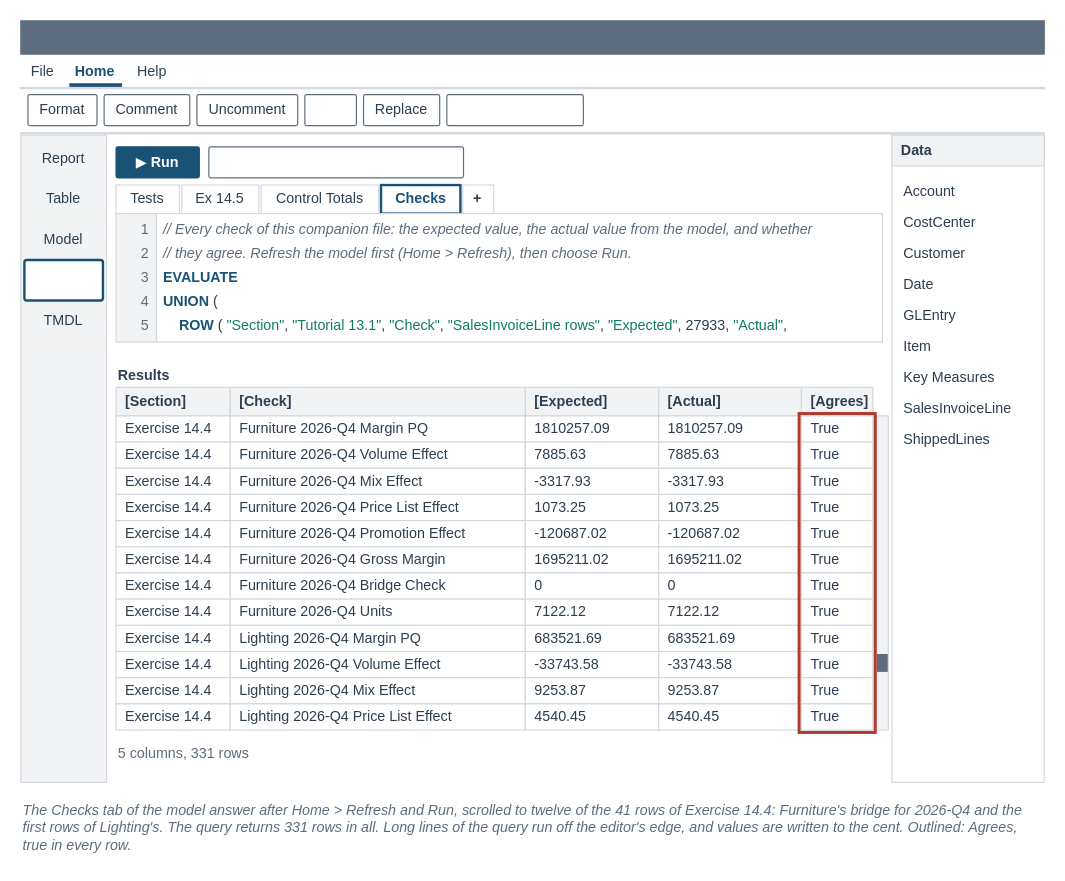
Image size: 1065x881. Some labels were removed from this diagram. Each missing label, with the box of its shape:
Chapter 14 Exercises - Solutions - Power BI Desktop: (20, 20, 1044, 54)
Command palette: (446, 93, 583, 126)
DAX query: (23, 258, 104, 301)
Find: (304, 93, 356, 126)
Update model with changes (0): (208, 146, 464, 178)
